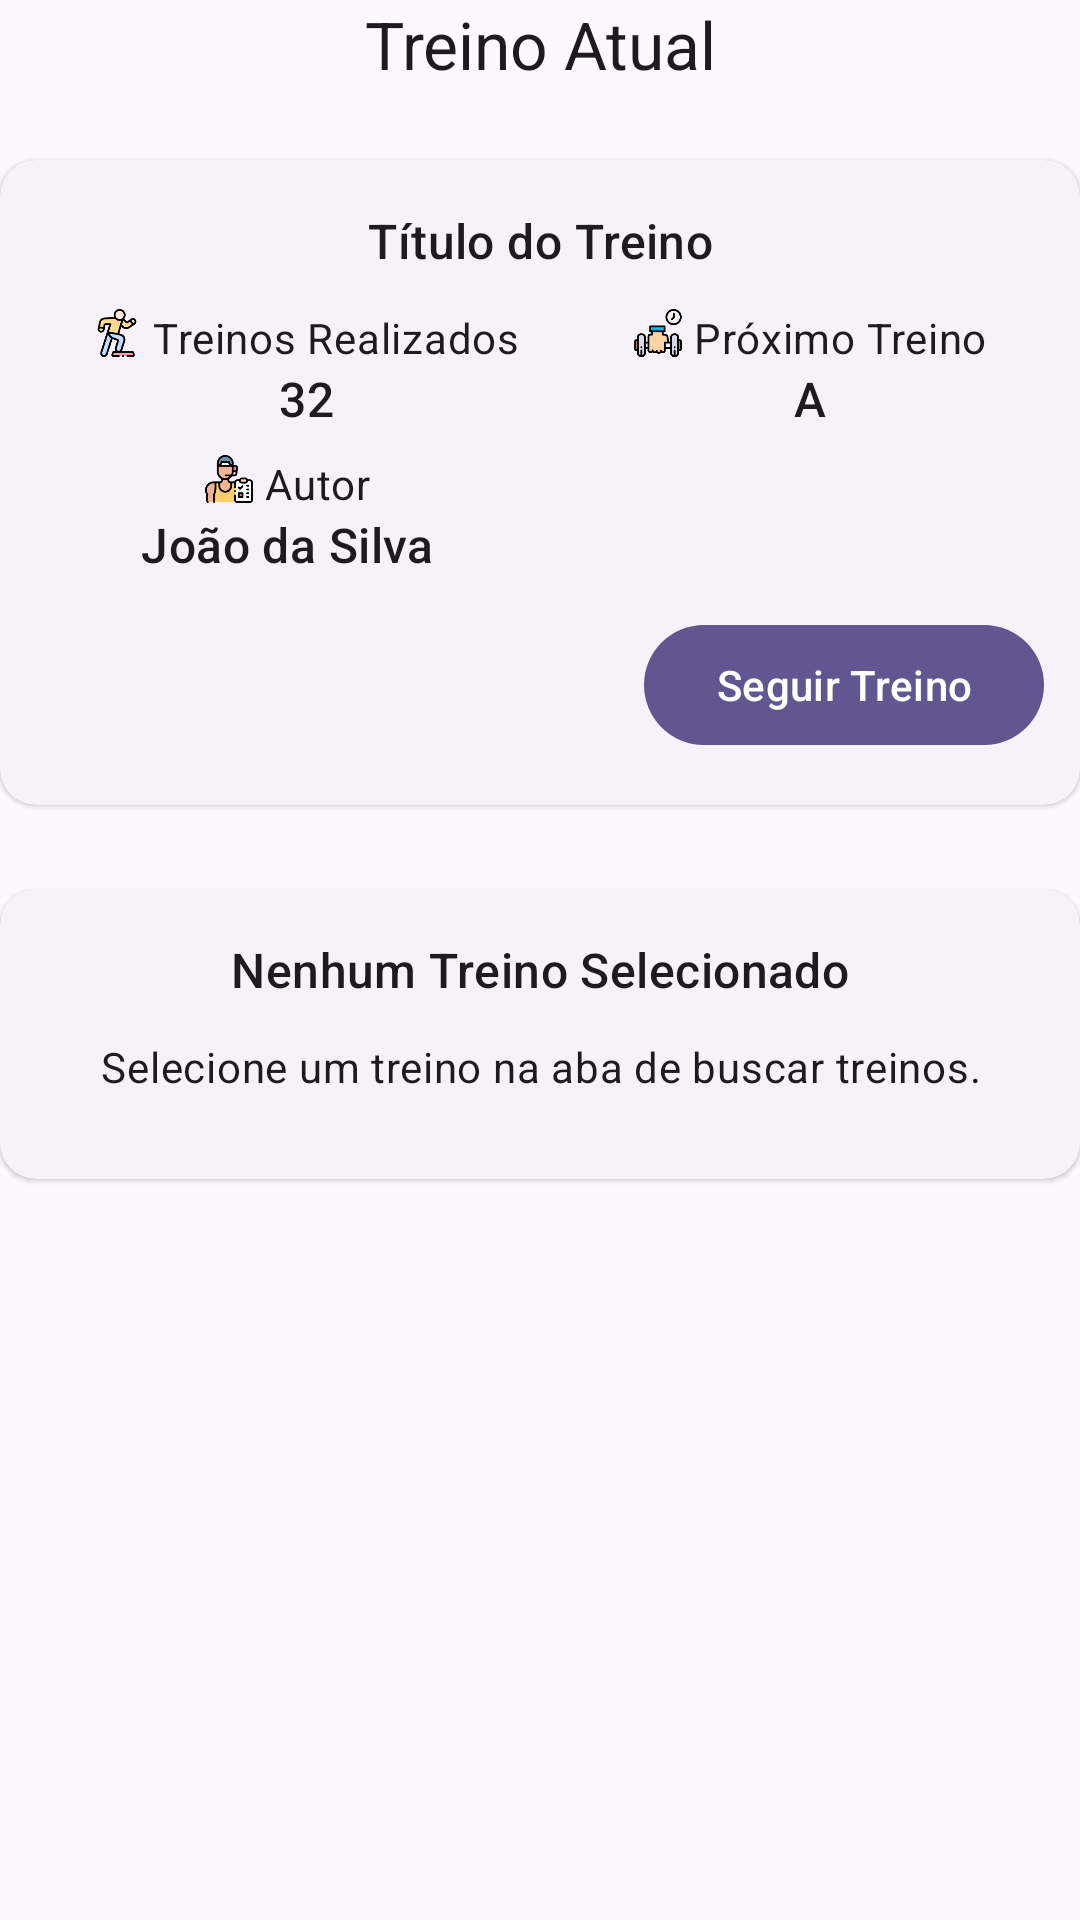

Icon bounding boxes for this 1080 x 1920 phone screenshot, format {"x1": x1, "y1": y1, "x2": x2, "y2": y2}:
aerobic: {"x1": 97, "y1": 309, "x2": 137, "y2": 357}
personal: {"x1": 205, "y1": 455, "x2": 253, "y2": 503}
workout: {"x1": 634, "y1": 309, "x2": 682, "y2": 357}
